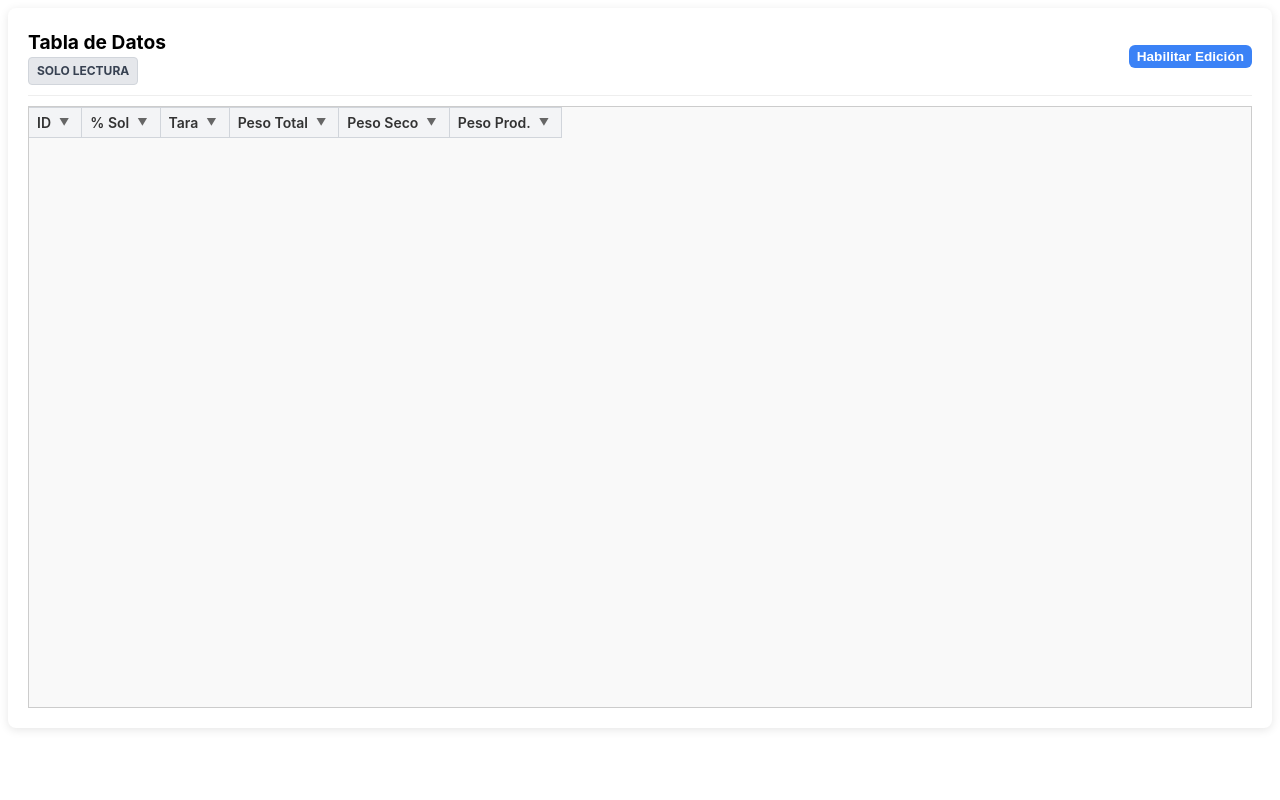
ExcelGrid: columnas calculadas › escribir Tara y Peso Total calcula Peso Prod. y % Sol
The width and height of the screenshot is (1280, 800).
Click the button "Habilitar Edición": (1190, 56) [1129, 45, 1252, 68]
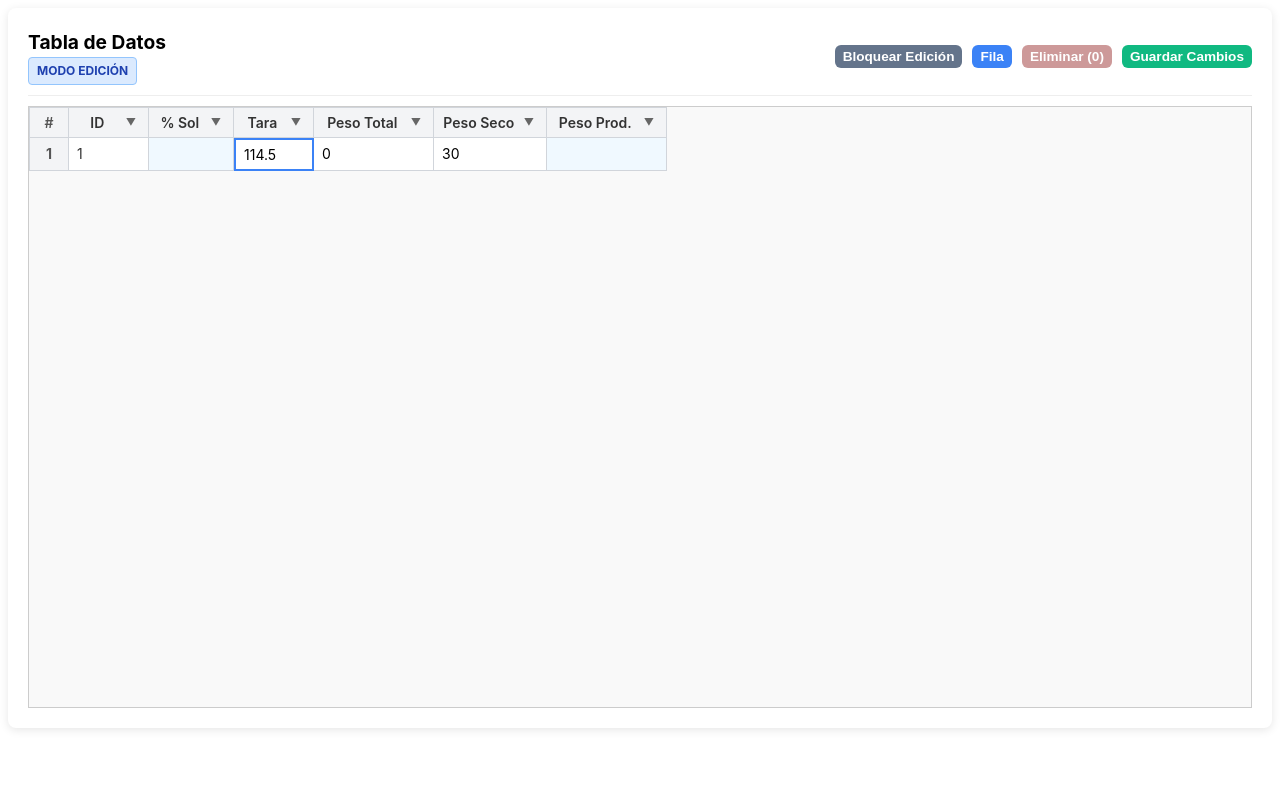
Clear the cell "114.5": (274, 154) [234, 138, 314, 171]
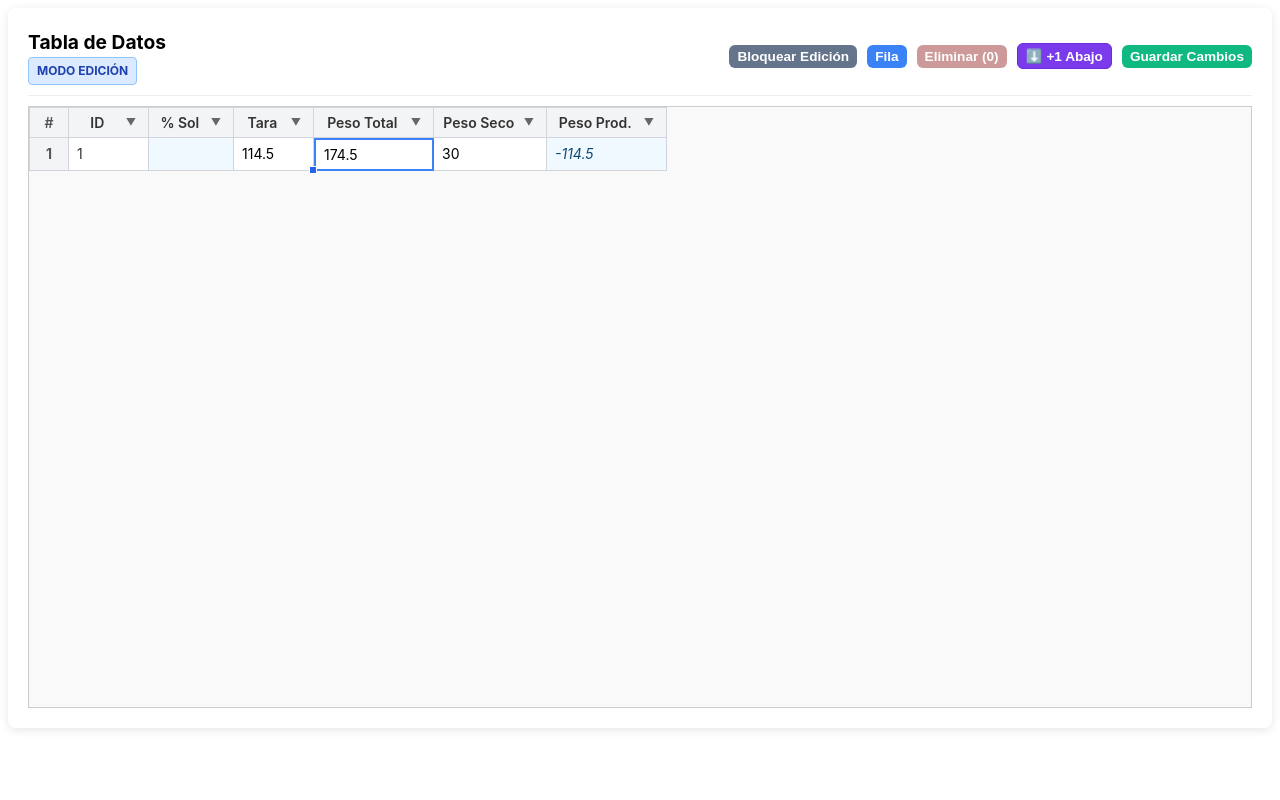
Clear the cell "174.5": (374, 154) [314, 138, 434, 171]
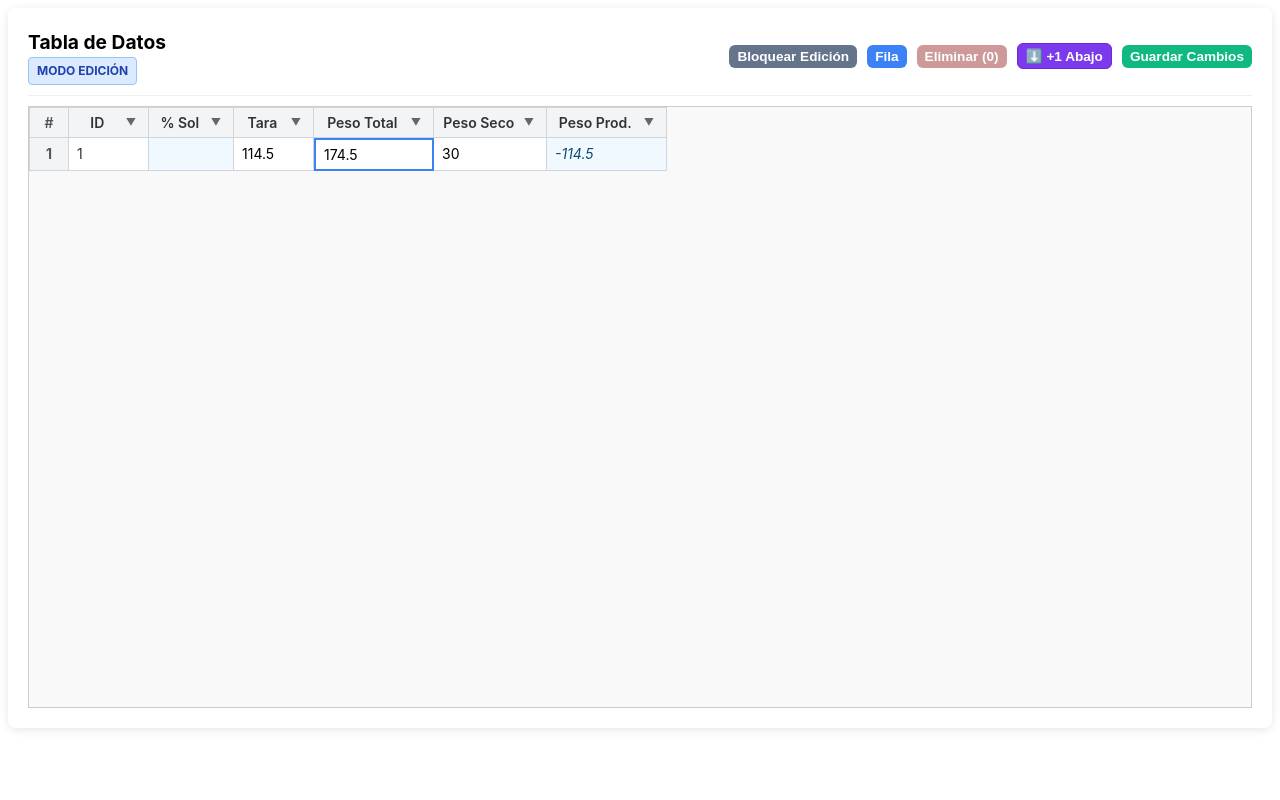
Leave the cell "174.5", box [314, 138, 434, 171]
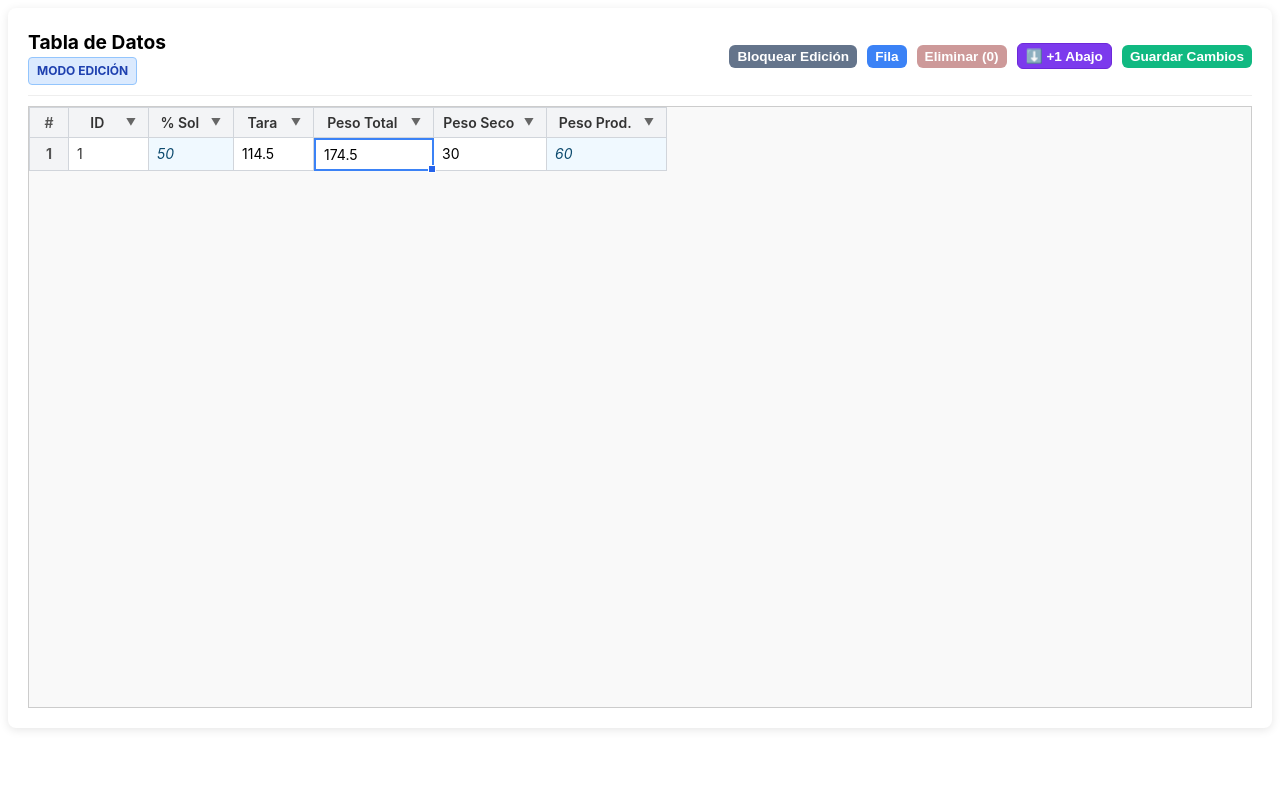
Now the cell "60" is shown, box [547, 138, 667, 171]
Now the cell "50" is shown, box [149, 138, 234, 171]
